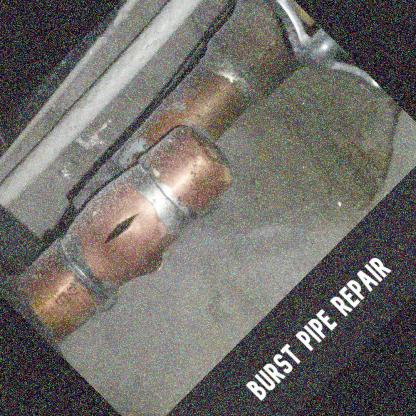burst: (95, 210, 143, 253)
